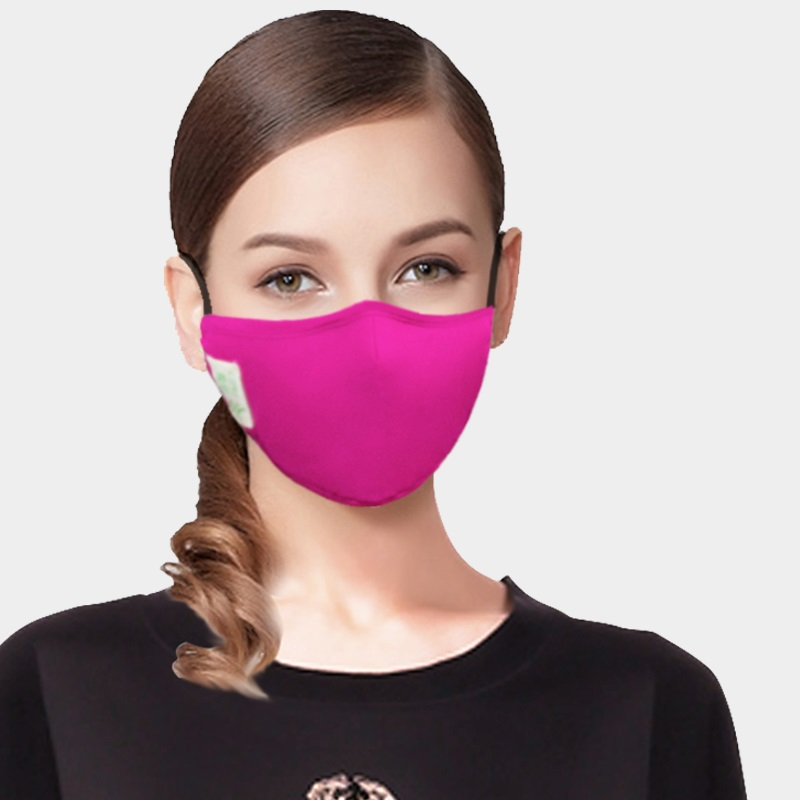face_mask: (206, 110, 495, 509)
